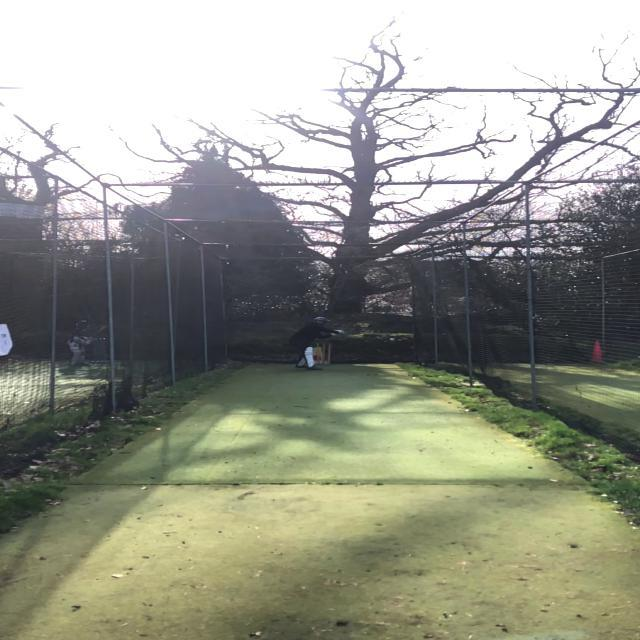ball: (389, 337, 396, 342)
